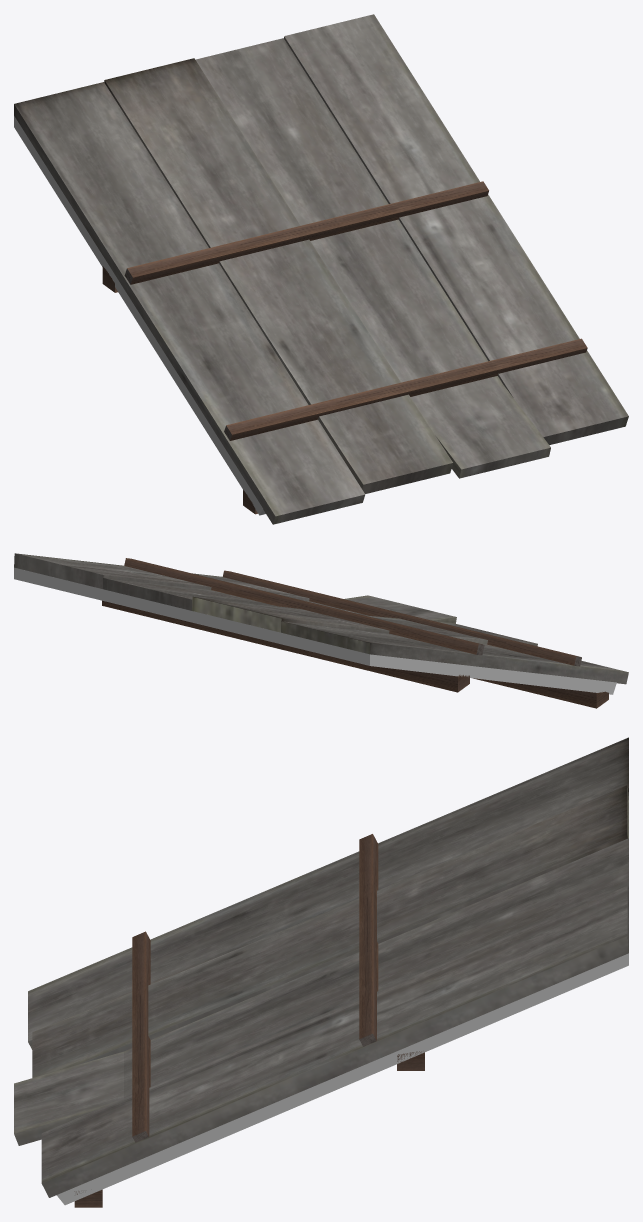
File: itabuki_1x2t_a1middle.fbx
3 views of the same model, one above another, from view 1: azimuth 30°, elevation 25°; view 2: azimuth 150°, elevation 25°; view 3: azimuth 270°, elevation 25° (orthographic). The views are drawn at different scales.
Visible parts, largest first — view 1: itabuki_1x2t_a1middle; view 2: itabuki_1x2t_a1middle; view 3: itabuki_1x2t_a1middle.
Boxes of the visible parts, x1,y1,x2,y2 form: itabuki_1x2t_a1middle: (14,14,628,524); itabuki_1x2t_a1middle: (14,553,628,708); itabuki_1x2t_a1middle: (14,737,628,1207).
Size of the model in its own units: 220 by 138 by 284.
